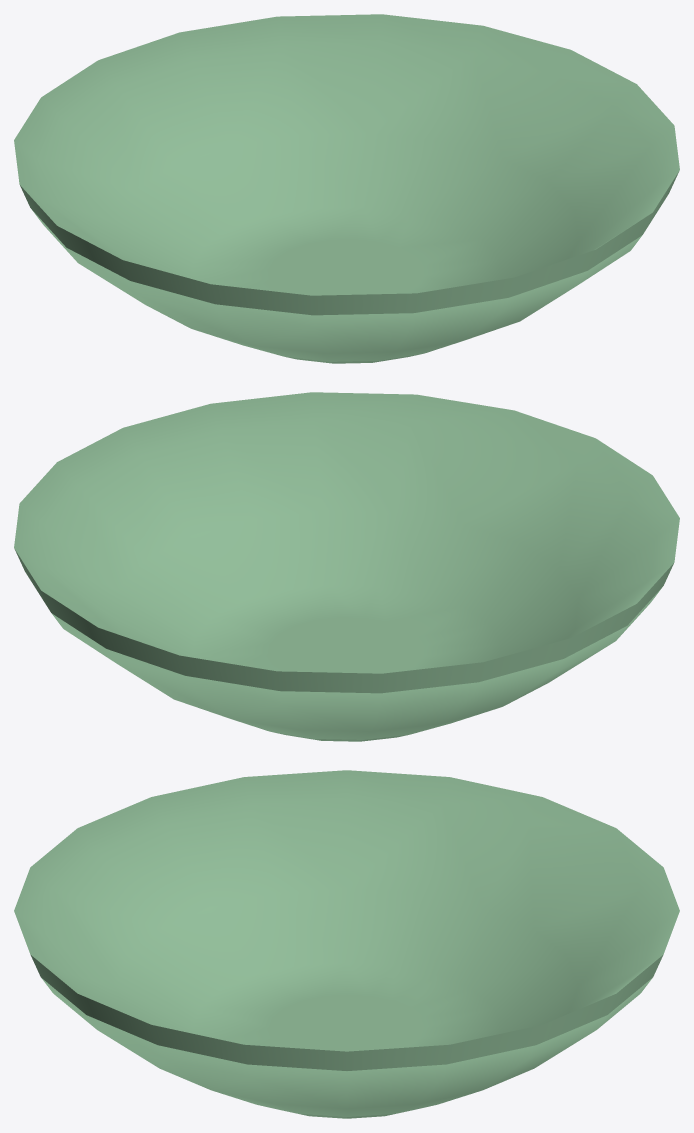
The model's file is Bowl001.FBX.
3 renders of one model, top to bottom at view 1: azimuth 30°, elevation 25°; view 2: azimuth 150°, elevation 25°; view 3: azimuth 270°, elevation 25°, orthographic.
Visible parts, largest first — view 1: Bowl001; view 2: Bowl001; view 3: Bowl001.
Part boxes in pixels (<box>): Bowl001: <box>14,14,679,363</box>; Bowl001: <box>14,392,679,741</box>; Bowl001: <box>14,770,679,1118</box>.
Size of the model in its own units: 9.07 by 2.35 by 9.07.
